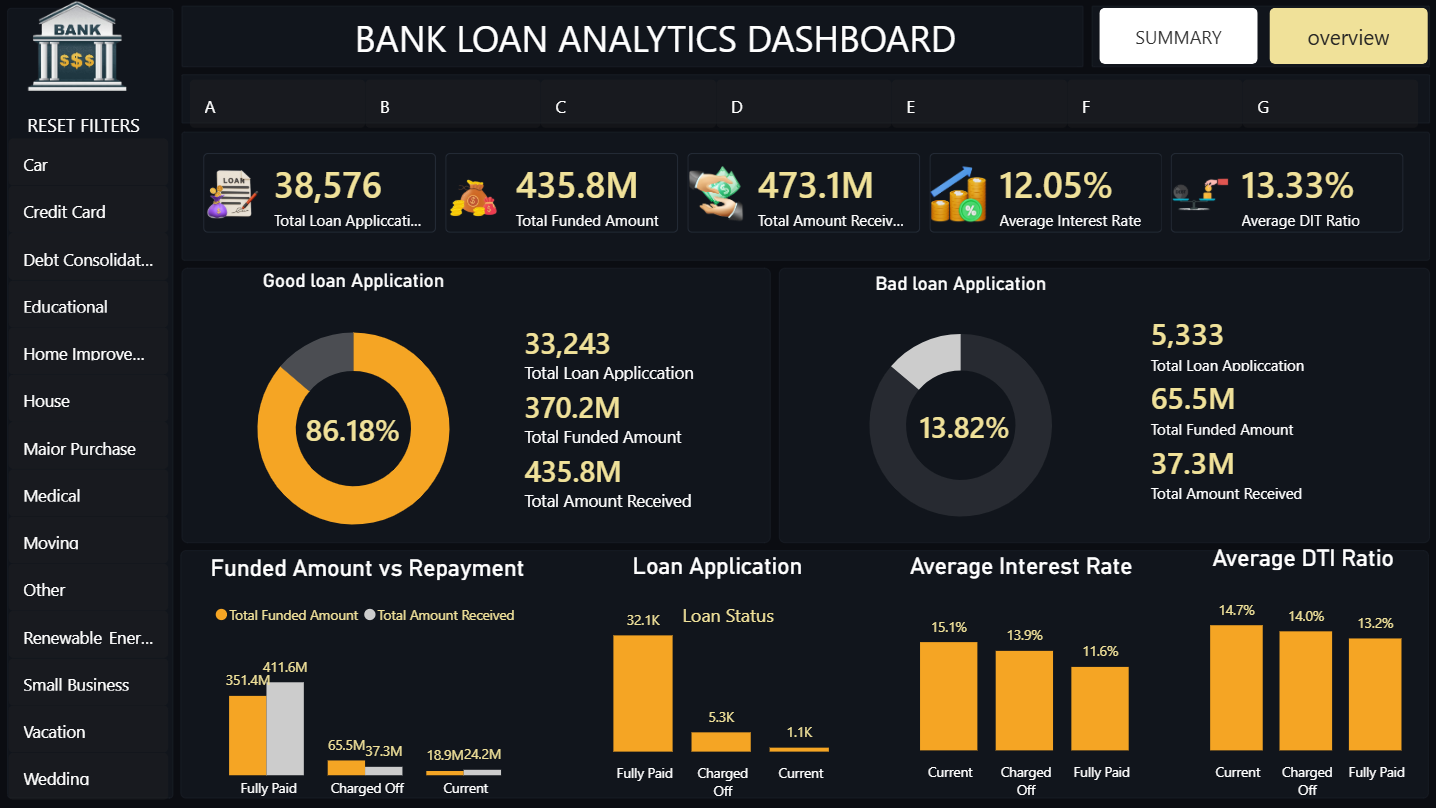

What the dashboard file says about the page in this screenshot:
{"tool":"powerbi","page":{"name":"SUMMARY","canvas":[1280,720],"ordinal":0},"visuals":[{"type":"cardVisual","fields":{"Data":["financial_loan.Total Loan Appliccation","financial_loan.Total Funded Amount","financial_loan.Total Amount Received","financial_loan.Average Interest Rate","financial_loan.Average DIT Rate"]},"box":[165.6,120,1105.6,105.6],"z":0},{"type":"donutChart","title":"Good loan Application","fields":{"Category":["financial_loan.Good_vs_Bad_Loan"],"Y":["CountNonNull(financial_loan.LOAN_STATUS)"]},"box":[165.1,239.5,301.2,253.5],"z":1000},{"type":"donutChart","title":"Bad loan Application","fields":{"Category":["financial_loan.Good_vs_Bad_Loan"],"Y":["CountNonNull(financial_loan.LOAN_STATUS)"]},"box":[697.8,242.2,316.3,243],"z":2000},{"type":"cardVisual","fields":{"Data":["financial_loan.Good Loan %"]},"box":[244.2,344.2,148.8,72.1],"z":3000},{"type":"cardVisual","fields":{"Data":["financial_loan.Bad Loan %"]},"box":[790,343.3,155.8,72.1],"z":4000},{"type":"cardVisual","fields":{"Data":["financial_loan.Total Loan Appliccation","financial_loan.Total Funded Amount","financial_loan.Total Amount Received"],"Rows":["financial_loan.Good_vs_Bad_Loan"]},"box":[438.9,195.6,236.7,297.8],"z":5000},{"type":"cardVisual","fields":{"Data":["financial_loan.Total Loan Appliccation","financial_loan.Total Funded Amount","financial_loan.Total Amount Received"],"Rows":["financial_loan.Good_vs_Bad_Loan"]},"box":[995.4,187.2,284.9,297.7],"z":6000},{"type":"clusteredColumnChart","title":"Funded Amount vs Repayment","fields":{"Category":["financial_loan.LOAN_STATUS"],"Y":["financial_loan.Total Funded Amount","financial_loan.Total Amount Received"]},"box":[165.6,493.3,325.6,226.7],"z":7000},{"type":"clusteredColumnChart","title":"Loan Application","fields":{"Category":["financial_loan.LOAN_STATUS"],"Y":["financial_loan.Total Loan Appliccation"]},"box":[504.4,492.2,270,227.8],"z":8000},{"type":"textbox","box":[603.3,531.1,122.2,35.6],"z":9000},{"type":"clusteredColumnChart","title":"Average Interest Rate","fields":{"Category":["financial_loan.LOAN_STATUS"],"Y":["financial_loan.Average Interest Rate"]},"box":[778.9,492.2,261.1,226.7],"z":10000},{"type":"clusteredColumnChart","title":"Average DTI Ratio","fields":{"Category":["financial_loan.LOAN_STATUS"],"Y":["financial_loan.Average DIT Ratio"]},"box":[1040,484.4,240,234.4],"z":11000},{"type":"image","box":[8.9,0,123.3,83.3],"z":12000},{"type":"advancedSlicerVisual","fields":{"Values":["financial_loan.PURPOSE"]},"box":[4.2,118.5,152.2,600],"z":13000},{"type":"advancedSlicerVisual","fields":{"Values":["financial_loan.GRADE"]},"box":[165.6,66.7,1105.6,53.3],"z":14000},{"type":"actionButton","box":[4.4,93.3,143.3,36.7],"z":15000},{"type":"textbox","box":[173.3,8.1,822.1,58.1],"z":16000},{"type":"pageNavigator","box":[978.9,7.8,292.2,50],"z":17000}]}

Visuals, with their boxes in screenshot pixels (x1, y1, x2, y2), scaled from the page's 1280x720 canvas onto the 1436x808 screenshot:
cardVisual - financial_loan.Total Loan Appliccation x financial_loan.Total Funded Amount: bbox(186, 135, 1426, 253)
"Good loan Application" donutChart: bbox(185, 269, 523, 553)
"Bad loan Application" donutChart: bbox(783, 272, 1138, 545)
cardVisual - financial_loan.Good Loan %: bbox(274, 386, 441, 467)
cardVisual - financial_loan.Bad Loan %: bbox(886, 385, 1061, 466)
cardVisual - financial_loan.Total Loan Appliccation x financial_loan.Total Funded Amount: bbox(492, 220, 758, 554)
cardVisual - financial_loan.Total Loan Appliccation x financial_loan.Total Funded Amount: bbox(1117, 210, 1435, 544)
"Funded Amount vs Repayment" clusteredColumnChart: bbox(186, 554, 551, 807)
"Loan Application" clusteredColumnChart: bbox(566, 552, 869, 807)
textbox: bbox(677, 596, 814, 636)
"Average Interest Rate" clusteredColumnChart: bbox(874, 552, 1167, 807)
"Average DTI Ratio" clusteredColumnChart: bbox(1167, 544, 1435, 807)
image: bbox(10, 0, 148, 93)
advancedSlicerVisual - financial_loan.PURPOSE: bbox(5, 133, 175, 806)
advancedSlicerVisual - financial_loan.GRADE: bbox(186, 75, 1426, 135)
actionButton: bbox(5, 105, 166, 146)
textbox: bbox(194, 9, 1117, 74)
pageNavigator: bbox(1098, 9, 1426, 65)
